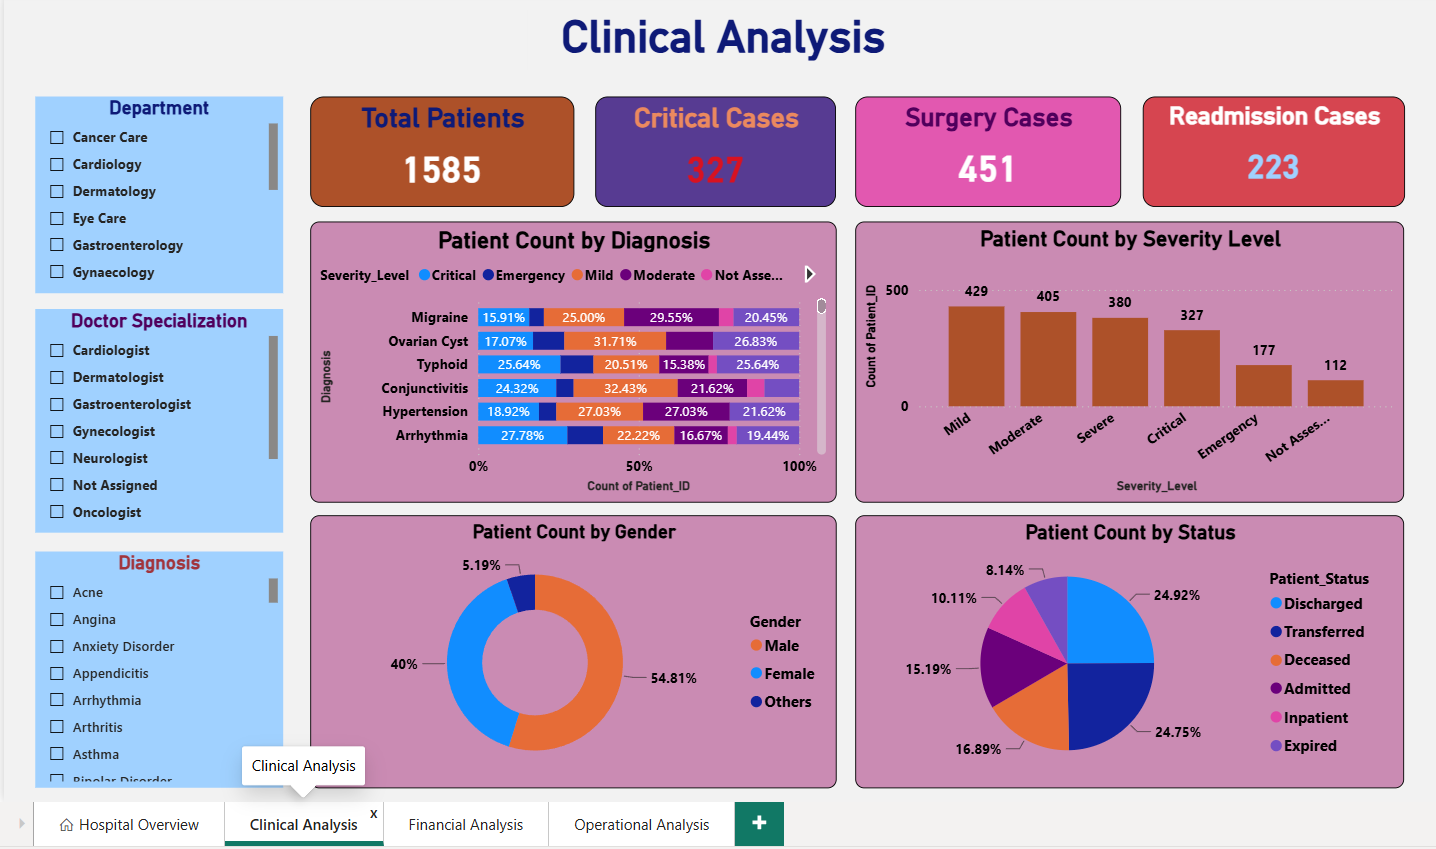

The page's visual inventory and layout, read from the dashboard file:
{"tool":"powerbi","page":{"name":"Clinical Analysis","canvas":[1280,720],"ordinal":1},"visuals":[{"type":"donutChart","title":" Patient Count by Gender","fields":{"Y":["CountNonNull(Raw_Patient_Data.Patient_ID)"],"Category":["Raw_Patient_Data.Gender"]},"box":[272.7,463.9,468.6,242.9],"z":0},{"type":"card","title":"Critical Cases","fields":{"Values":["Raw_Patient_Data.Critical Cases"]},"box":[526.6,90.9,214.7,98.7],"z":1000},{"type":"card","title":"Surgery Cases","fields":{"Values":["Raw_Patient_Data.Surgery Cases"]},"box":[758.5,90.9,236.7,98.7],"z":2000},{"type":"card","title":"Readmission Cases","fields":{"Values":["Raw_Patient_Data.Readmission Cases"]},"box":[1014,90.9,233.5,98.7],"z":3000},{"type":"slicer","title":"Department","fields":{"Values":["Raw_Patient_Data.Department"]},"box":[28.2,90.9,221,175.5],"z":4000},{"type":"clusteredColumnChart","title":"Patient Count by Severity Level","fields":{"Category":["Raw_Patient_Data.Severity_Level"],"Y":["CountNonNull(Raw_Patient_Data.Patient_ID)"]},"box":[758.5,202.2,489,250.8],"z":5000},{"type":"slicer","title":"Diagnosis","fields":{"Values":["Raw_Patient_Data.Diagnosis"]},"box":[28.2,496.8,221,210],"z":6000},{"type":"hundredPercentStackedBarChart","title":" Patient Count by  Diagnosis","fields":{"Series":["Raw_Patient_Data.Severity_Level"],"Category":["Raw_Patient_Data.Diagnosis"],"Y":["CountNonNull(Raw_Patient_Data.Patient_ID)"]},"box":[272.7,202.2,468.6,250.8],"z":7000},{"type":"slicer","title":"Doctor Specialization","fields":{"Values":["Raw_Patient_Data.Doctor_Specialization"]},"box":[28.2,280.5,221,199],"z":8000},{"type":"pieChart","title":"Patient Count by Status","fields":{"Category":["Raw_Patient_Data.Patient_Status"],"Y":["CountNonNull(Raw_Patient_Data.Patient_ID)"]},"box":[758.5,463.9,489,242.9],"z":9000},{"type":"card","title":"Total Patients","fields":{"Values":["Raw_Patient_Data.Toatal Patients"]},"box":[272.7,90.9,235.1,98.7],"z":10000},{"type":"textbox","title":"Clinical Analysis","box":[473.3,11,330.7,62.7],"z":11000}]}

Visuals, with their boxes on the page's 1280x720 design canvas (x1, y1, x2, y2). These are canvas units, not pixel positions in the 1436x849 screenshot, which may show the page scaled, cropped or inside an application window:
" Patient Count by Gender" donutChart: rect(273, 464, 741, 707)
"Critical Cases" card: rect(527, 91, 741, 190)
"Surgery Cases" card: rect(758, 91, 995, 190)
"Readmission Cases" card: rect(1014, 91, 1248, 190)
"Department" slicer: rect(28, 91, 249, 266)
"Patient Count by Severity Level" clusteredColumnChart: rect(758, 202, 1248, 453)
"Diagnosis" slicer: rect(28, 497, 249, 707)
" Patient Count by  Diagnosis" hundredPercentStackedBarChart: rect(273, 202, 741, 453)
"Doctor Specialization" slicer: rect(28, 280, 249, 480)
"Patient Count by Status" pieChart: rect(758, 464, 1248, 707)
"Total Patients" card: rect(273, 91, 508, 190)
"Clinical Analysis" textbox: rect(473, 11, 804, 74)
